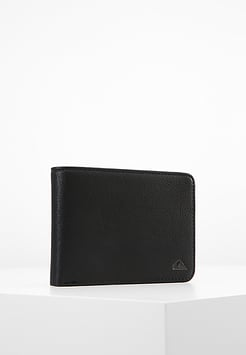monedero: (50, 166, 196, 288)
